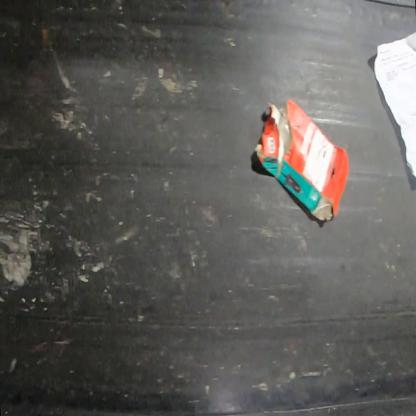cardboard: (255, 97, 350, 220)
